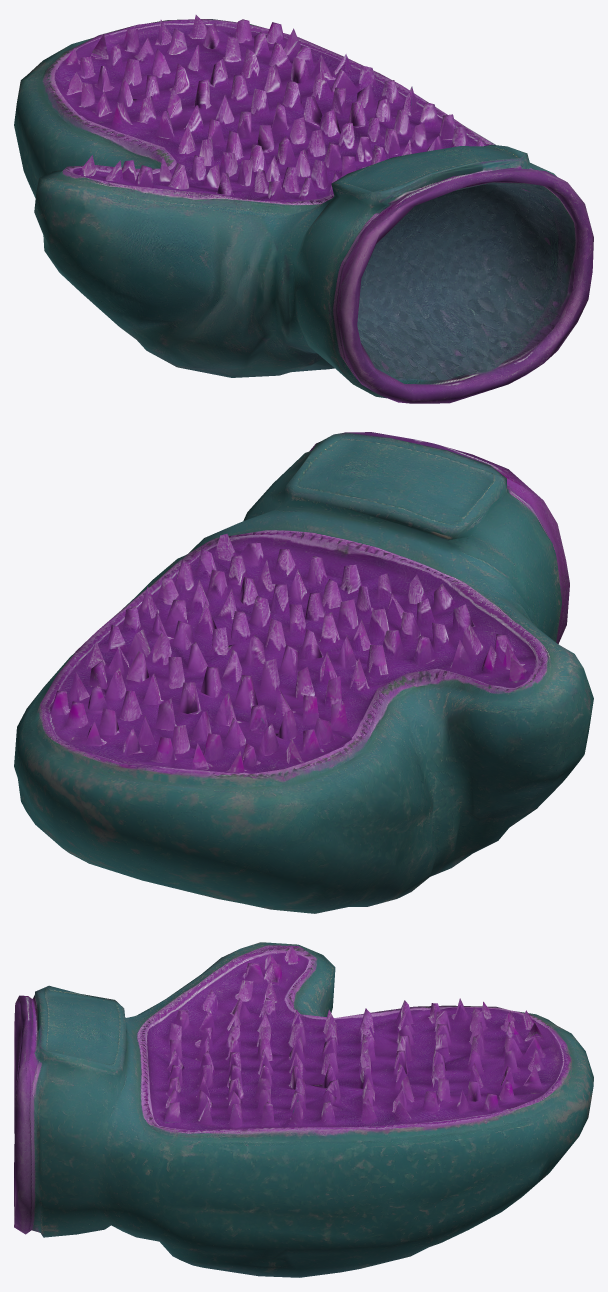
File: Meshy_AI_Heart_Shaped_Massager_0424155210_texture.fbx
3 renders of one model, top to bottom at view 1: azimuth 30°, elevation 25°; view 2: azimuth 150°, elevation 25°; view 3: azimuth 270°, elevation 25°, orthographic. The views are drawn at different scales.
Parts seen in each view (by area): view 1: Mesh_0; view 2: Mesh_0; view 3: Mesh_0.
Boxes of the visible parts, box(x1,y1,x2,y2) form: Mesh_0: box(14, 15, 593, 403); Mesh_0: box(14, 432, 593, 913); Mesh_0: box(14, 942, 593, 1277).
Bounding box in the file's own units: 51.38 × 30 × 66.14.
1 material, 1 textured.
